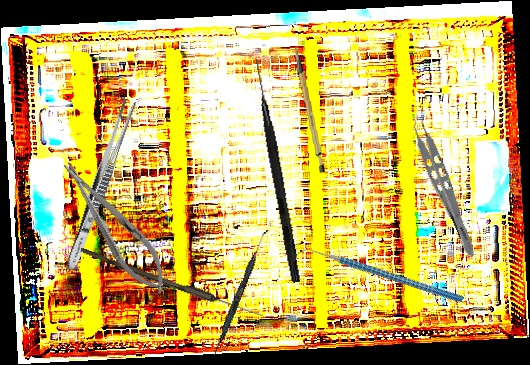Chopper: (293, 200, 465, 353)
Dressing Forceps: (62, 96, 138, 273)
Hook Surgical: (248, 56, 304, 284)
Needle Holder: (51, 151, 179, 303)
Scalpel Handle: (293, 42, 328, 175)
Spatula Surgical: (210, 227, 269, 361)
Surgical Spoon: (78, 247, 265, 320)
Tissue Forceps: (402, 109, 489, 260)
